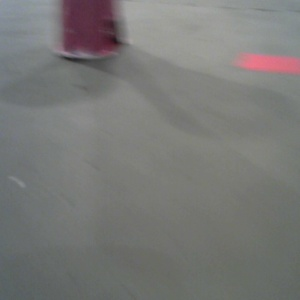Right: (158, 1, 225, 53)
